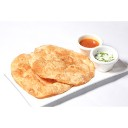poori: (12, 52, 73, 96), (32, 45, 95, 85)
